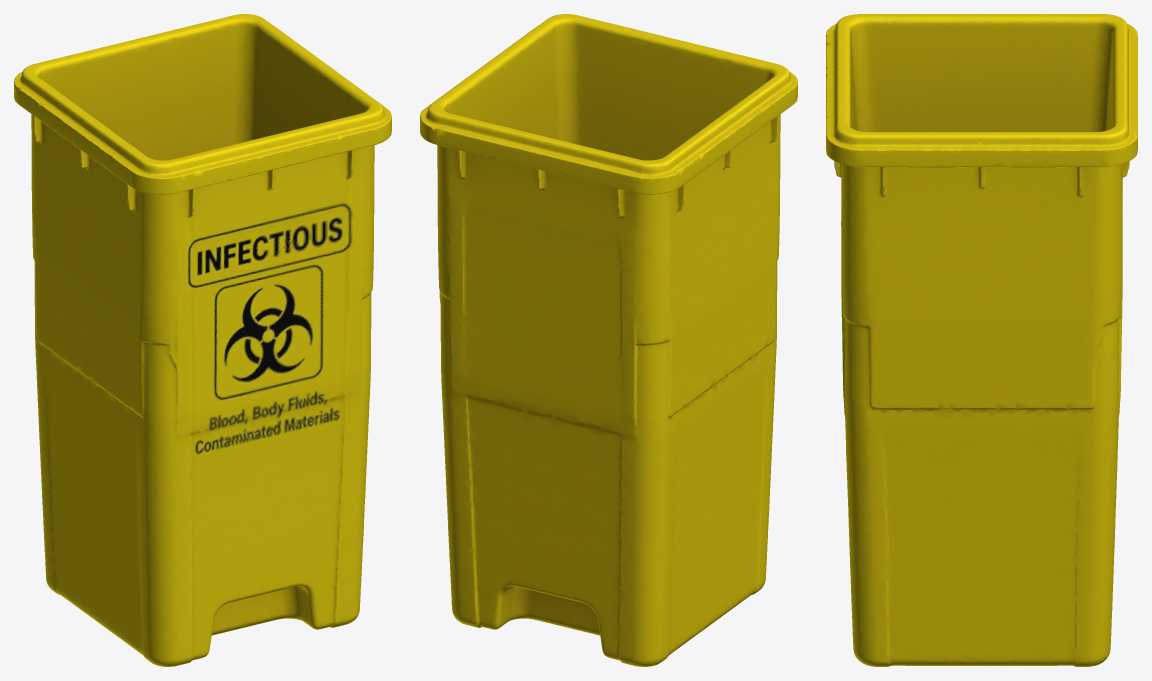
The model's file is yellowbin.glb.
3 views of the same model, side by side, from view 1: azimuth 30°, elevation 25°; view 2: azimuth 150°, elevation 25°; view 3: azimuth 270°, elevation 25° (orthographic). The views are drawn at different scales.
Visible parts, largest first — view 1: mesh_node; view 2: mesh_node; view 3: mesh_node.
Part boxes in pixels (x1,y1,x2,y2): mesh_node: (14,14,391,666); mesh_node: (420,14,797,666); mesh_node: (826,14,1137,666).
Size of the model in its own units: 0.9889 by 1.9 by 0.989.
1 material, 1 textured.
